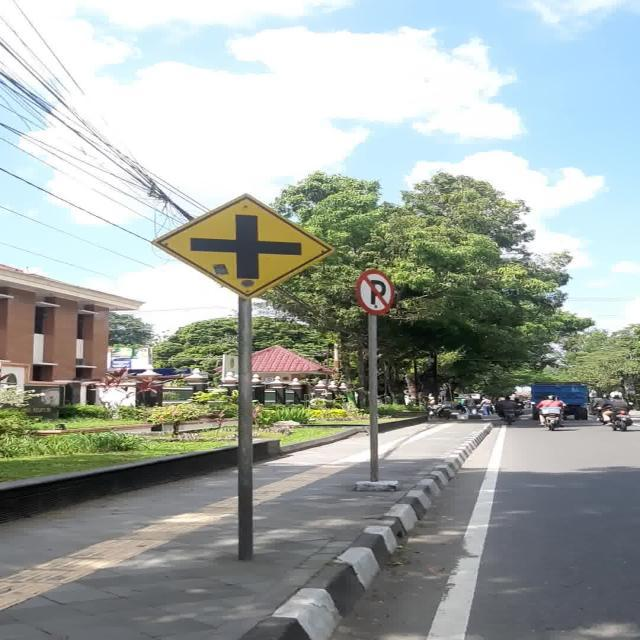Persimpangan 4: (150, 192, 334, 300)
